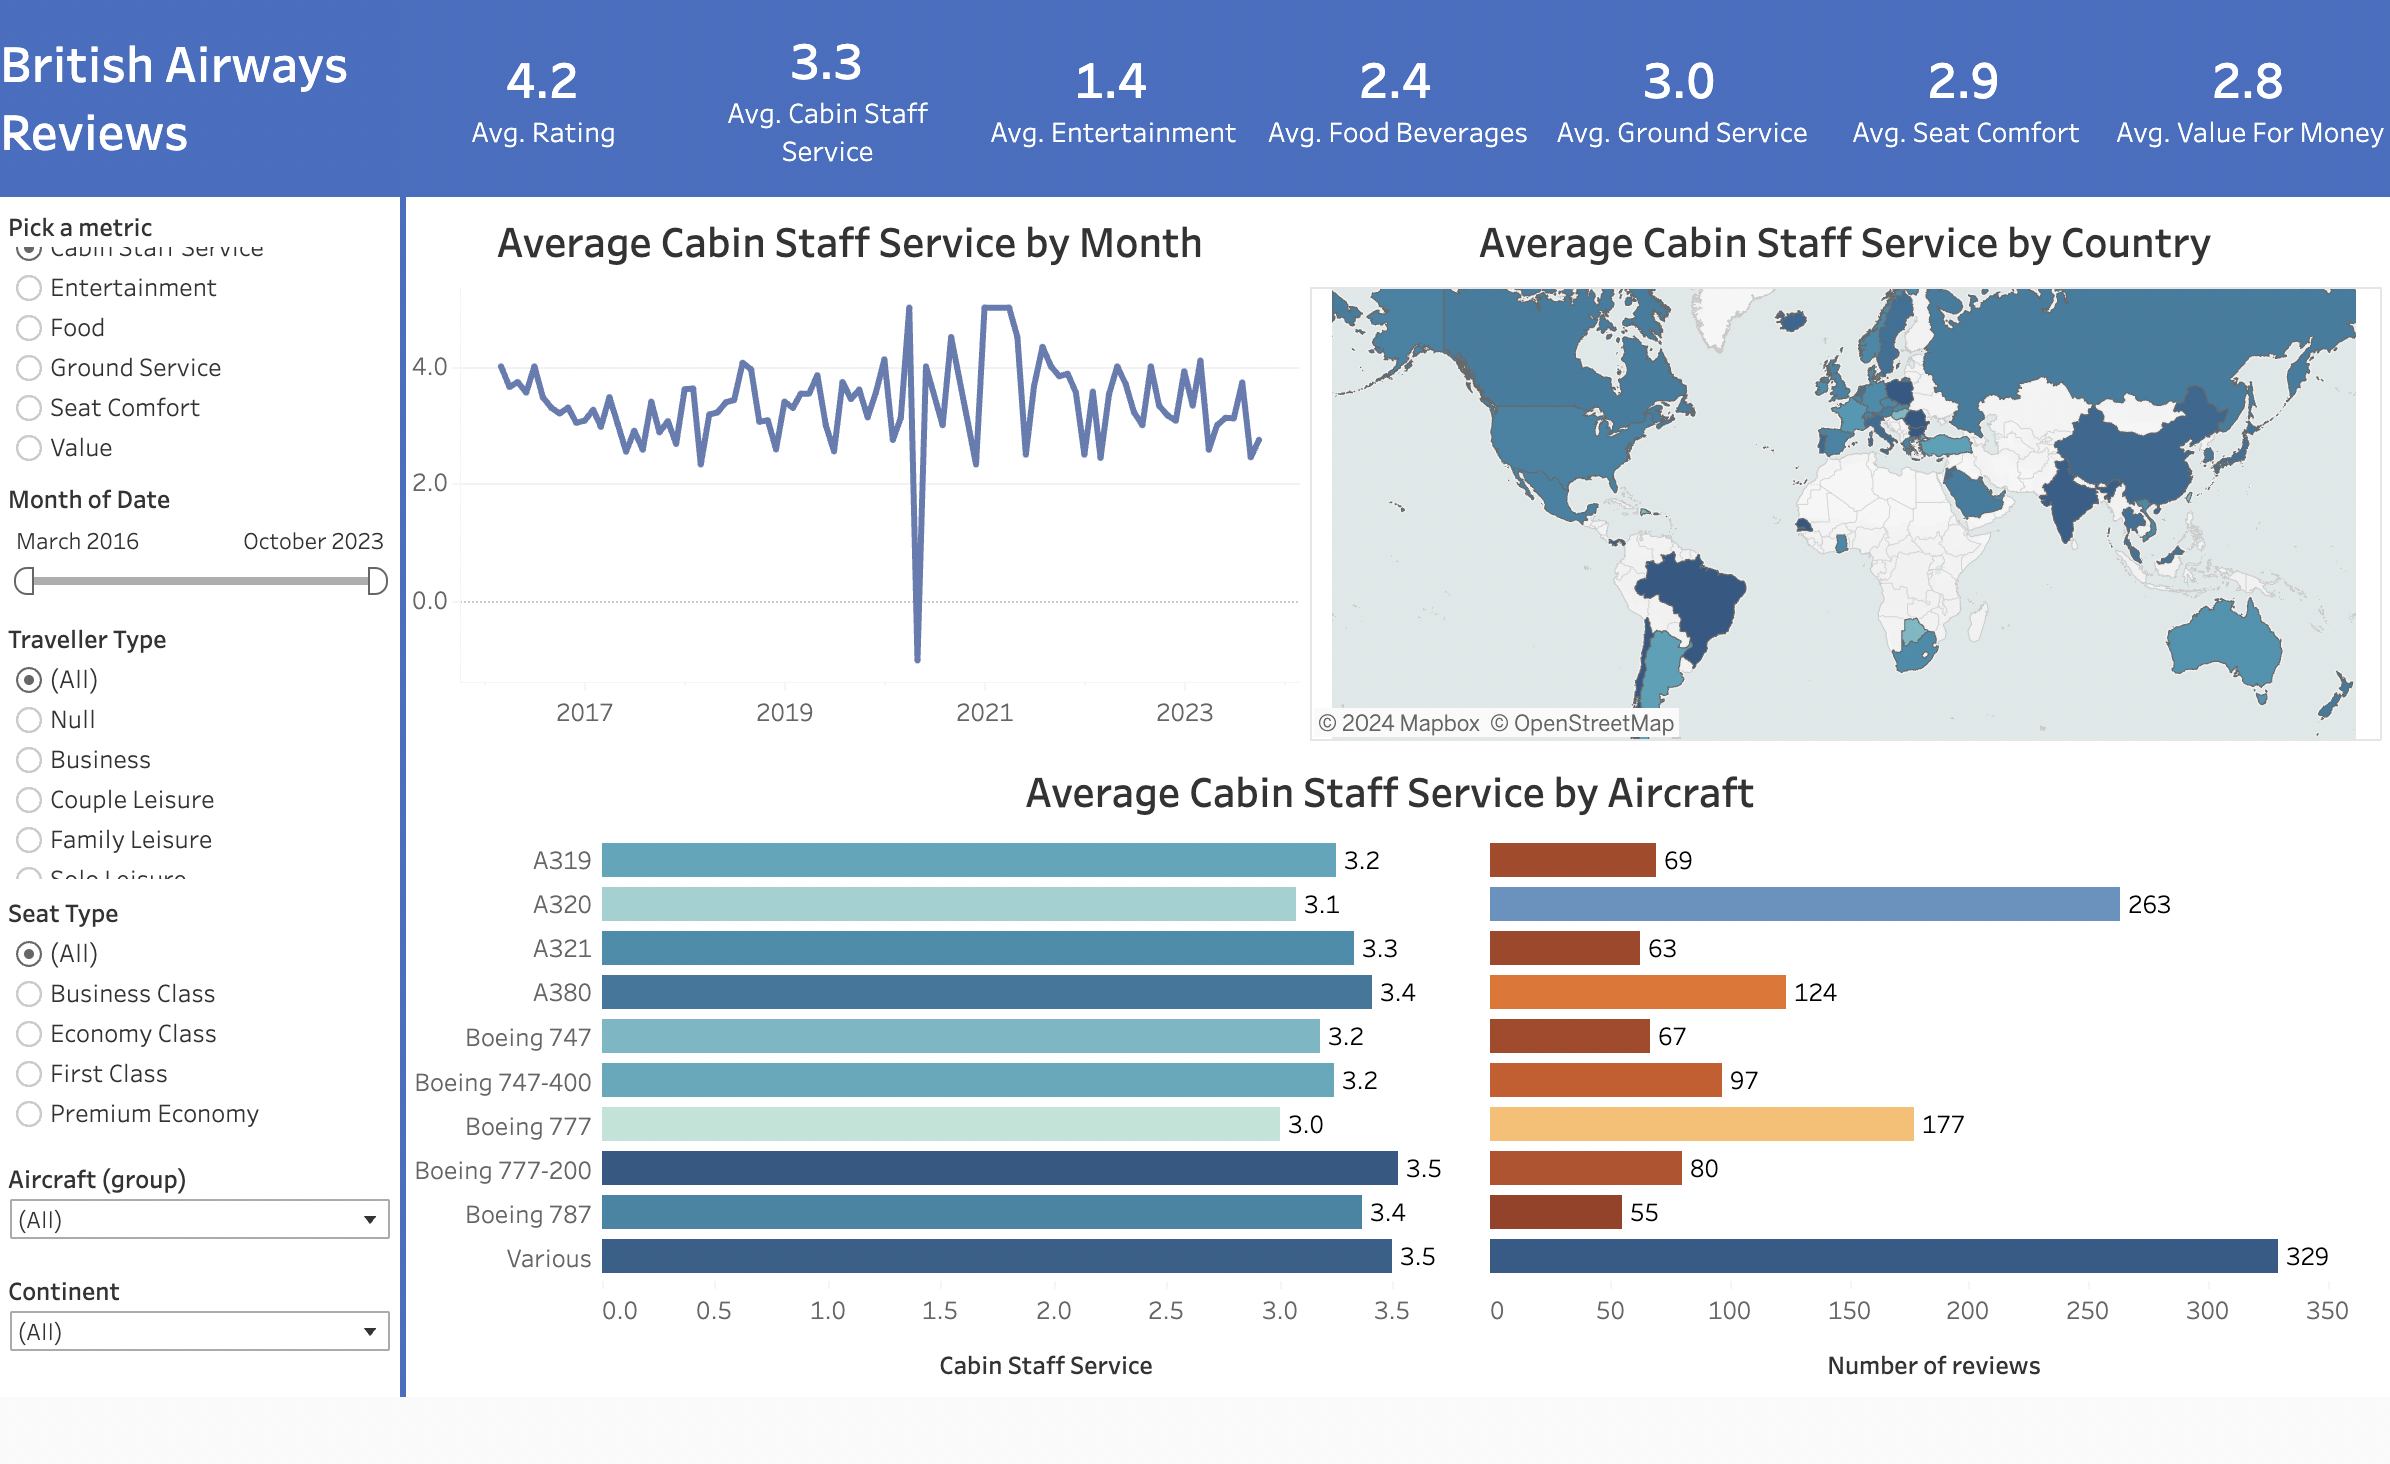

Layout of this report page (visuals, bound fields, positions):
{"tool":"tableau","page":{"name":"Dashboard 1","canvas":[1200,700],"ordinal":0},"visuals":[{"type":"text","box":[0,0,200,100]},{"type":"worksheet","title":"Summary","mark":"Automatic","box":[200,0,995,100]},{"type":"blank","box":[200,100,3,600]},{"type":"parameter","param":"[Parameters].[Parameter 1]","box":[0,102,200,144]},{"type":"worksheet","title":"Month","mark":"Automatic","rows":["Calculation_670332665953611776"],"cols":["date"],"box":[200,102,450,270]},{"type":"worksheet","title":"Map","mark":"Automatic","box":[655,102,536,270]},{"type":"filter","title":"Map","param":"[federated.1c0e3d401w24pp1c22i9j1qmp0l9].[tmn:date:qk]","box":[0,246,200,69]},{"type":"filter","title":"Map","param":"[federated.1c0e3d401w24pp1c22i9j1qmp0l9].[none:traveller_type:nk]","box":[0,315,200,144]},{"type":"worksheet","title":"Aircraft","mark":"Automatic","cols":["Calculation_670332665953611776","ba_reviews.csv_1C1760A7748D411897E4D3FA78821260"],"box":[201,377,988,321]},{"type":"filter","title":"Map","param":"[federated.1c0e3d401w24pp1c22i9j1qmp0l9].[none:seat_type:nk]","box":[0,459,200,127]},{"type":"filter","title":"Map","param":"[federated.1c0e3d401w24pp1c22i9j1qmp0l9].[Aircraft (group)]","box":[0,586,200,52]},{"type":"filter","title":"Map","param":"[federated.1c0e3d401w24pp1c22i9j1qmp0l9].[none:Continent:nk]","box":[0,638,200,52]}]}

Visuals, with their boxes on the page's 1200x700 design canvas (x1, y1, x2, y2). These are canvas units, not pixel positions in the 2390x1464 screenshot, which may show the page scaled, cropped or inside an application window:
text: (0, 0, 200, 100)
"Summary" worksheet: (200, 0, 1195, 100)
blank: (200, 100, 203, 700)
parameter: (0, 102, 200, 246)
"Month" worksheet: (200, 102, 650, 372)
"Map" worksheet: (655, 102, 1191, 372)
"Map" filter: (0, 246, 200, 315)
"Map" filter: (0, 315, 200, 459)
"Aircraft" worksheet: (201, 377, 1189, 698)
"Map" filter: (0, 459, 200, 586)
"Map" filter: (0, 586, 200, 638)
"Map" filter: (0, 638, 200, 690)
